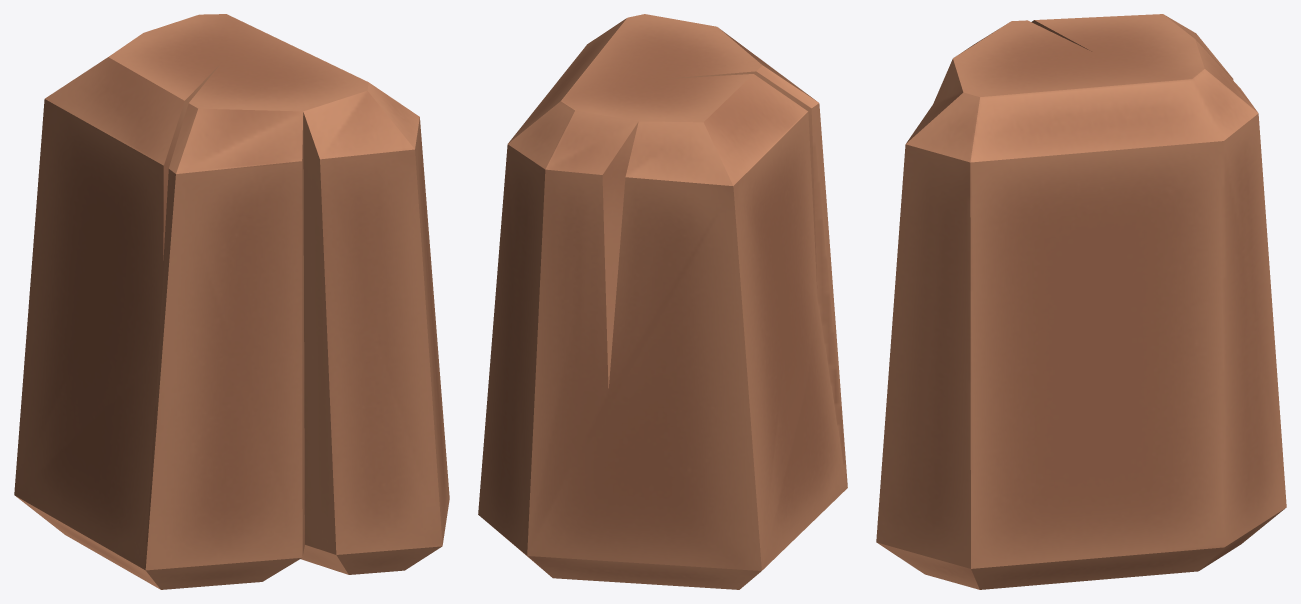
Rendered from Rock.fbx.
The picture shows the model from 3 angles, left to right: view 1: azimuth 30°, elevation 25°; view 2: azimuth 150°, elevation 25°; view 3: azimuth 270°, elevation 25°; orthographic projection. The views are drawn at different scales.
Visible parts, largest first — view 1: Cube.004; view 2: Cube.004; view 3: Cube.004.
Boxes of the visible parts, x1=… form: Cube.004: x1=14, y1=14, x2=449, y2=589; Cube.004: x1=478, y1=14, x2=847, y2=589; Cube.004: x1=876, y1=14, x2=1286, y2=589.
Bounding box in the file's own units: 131 × 182 × 143.
Materials: 1 (1 with a texture image).
